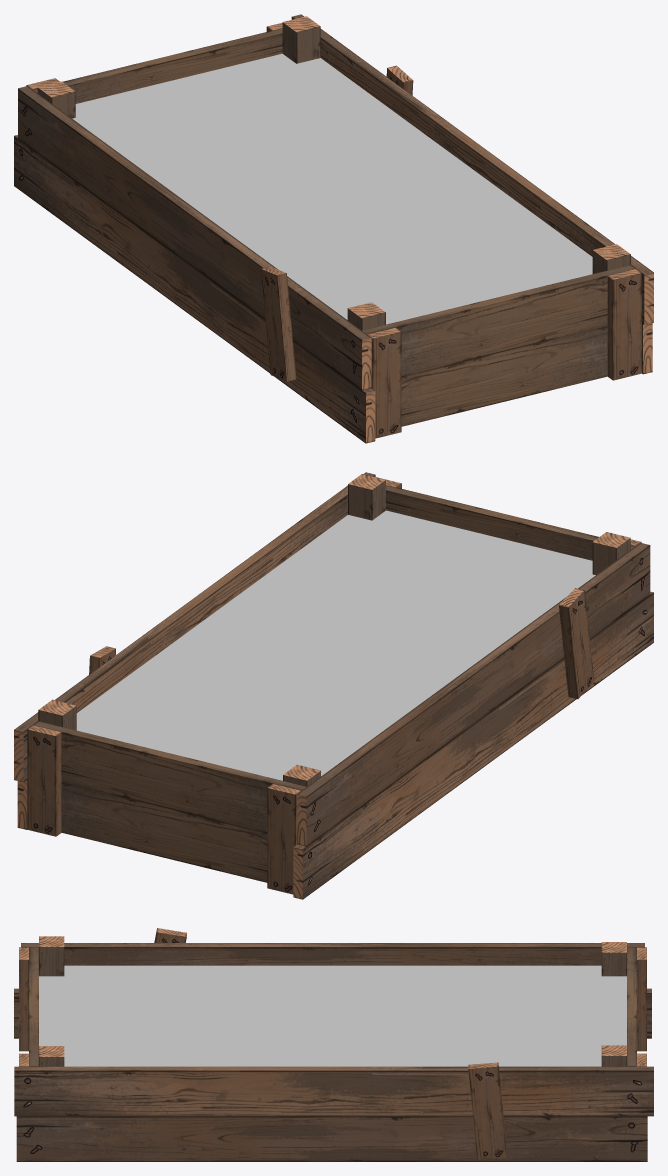
The model's file is raisedBed04.fbx.
The picture shows the model from 3 angles, top to bottom: view 1: azimuth 30°, elevation 25°; view 2: azimuth 150°, elevation 25°; view 3: azimuth 270°, elevation 25°; orthographic projection. The views are drawn at different scales.
Visible parts, largest first — view 1: raisedBed04; view 2: raisedBed04; view 3: raisedBed04.
Part boxes in pixels (x1,y1,x2,y2): raisedBed04: [14, 14, 653, 443]; raisedBed04: [14, 472, 653, 899]; raisedBed04: [14, 928, 653, 1161].
Size of the model in its own units: 160 by 56.09 by 318.
